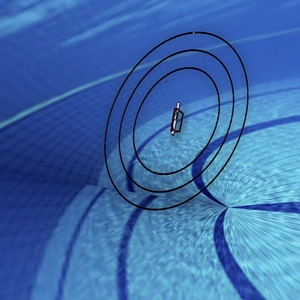circle: (84, 24, 261, 217)
submarine: (158, 95, 194, 140)
